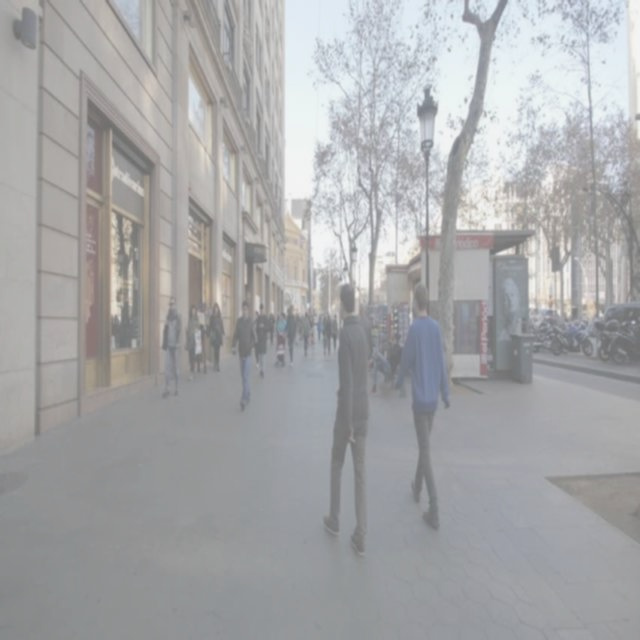pessoa: (393, 277, 451, 535), (322, 281, 369, 556), (229, 298, 256, 414), (160, 294, 183, 398), (368, 330, 402, 394), (496, 274, 526, 342), (208, 300, 226, 373), (254, 303, 270, 382), (356, 300, 374, 370), (187, 304, 202, 380), (531, 292, 573, 314), (196, 301, 208, 375), (284, 305, 298, 368), (253, 310, 261, 370), (301, 310, 311, 358), (324, 313, 332, 356), (295, 312, 304, 350), (267, 312, 276, 347), (276, 310, 288, 336), (331, 312, 338, 354), (322, 314, 328, 356), (316, 314, 322, 342), (276, 313, 280, 336), (283, 312, 286, 320)
